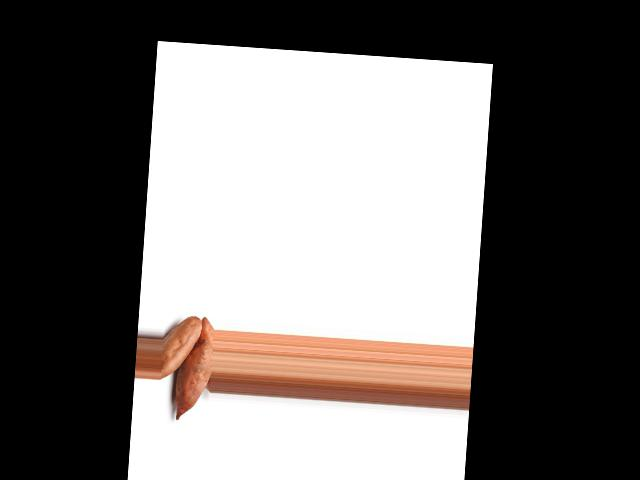sweet_potato: (159, 313, 201, 386)
